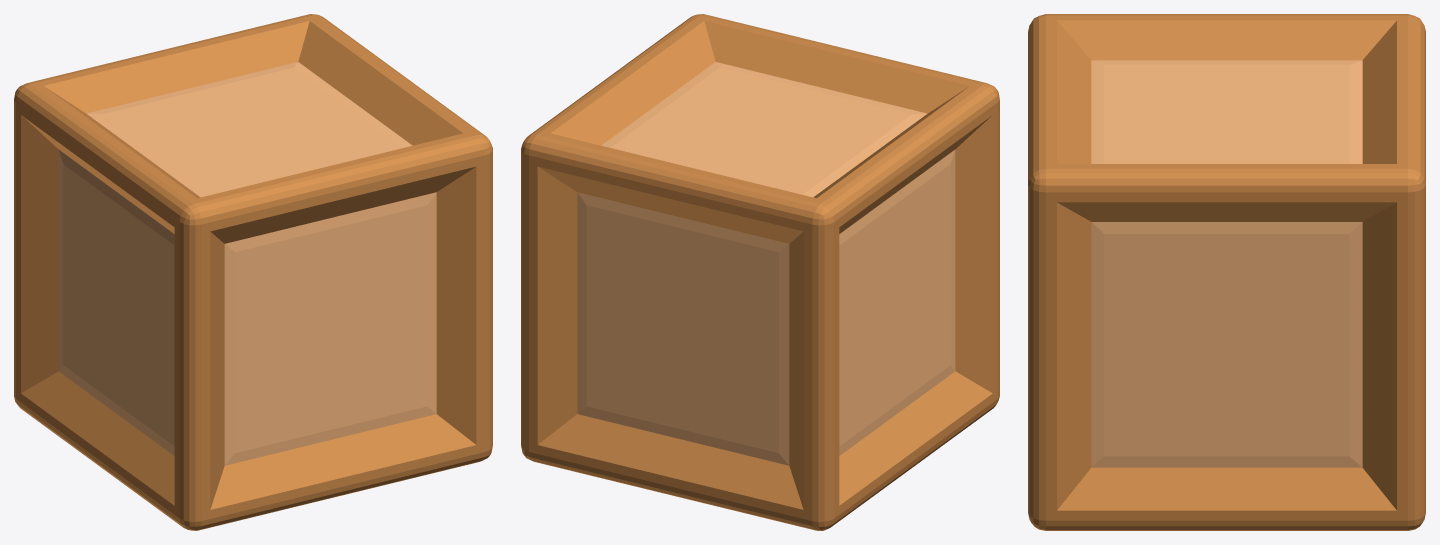
The picture shows the model from 3 angles, left to right: view 1: azimuth 30°, elevation 25°; view 2: azimuth 150°, elevation 25°; view 3: azimuth 270°, elevation 25°; orthographic projection. The views are drawn at different scales.
Parts seen in each view (by area): view 1: Cube; view 2: Cube; view 3: Cube.
Boxes of the visible parts, bbox=[...] form: Cube: bbox=[14, 14, 492, 530]; Cube: bbox=[521, 14, 999, 530]; Cube: bbox=[1028, 14, 1425, 530].
Size of the model in its own units: 200 by 200 by 200.
